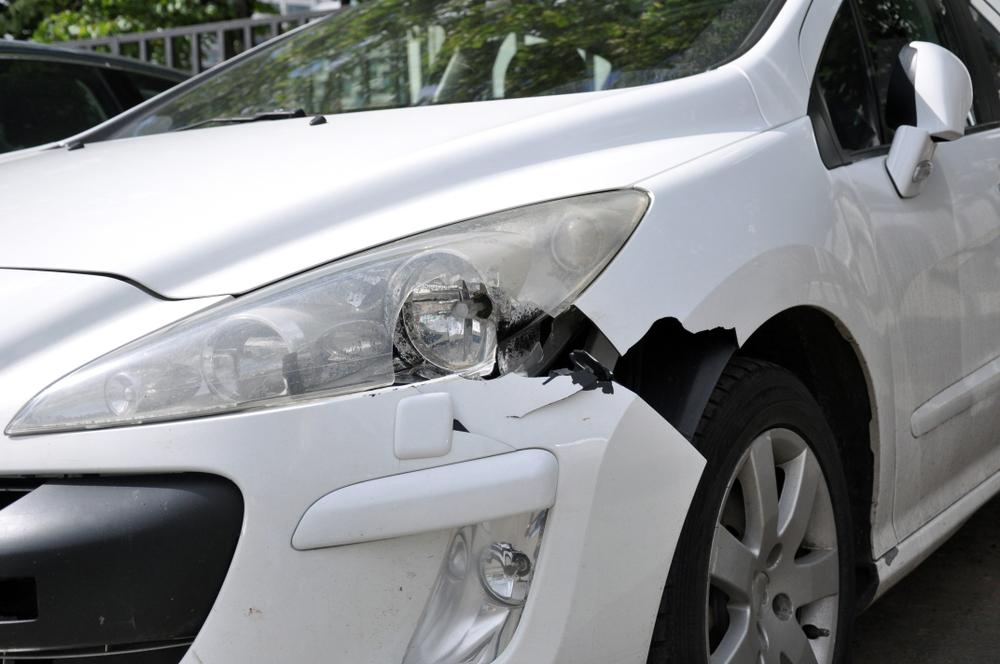crack: (504, 377, 597, 420)
lamp broken: (4, 188, 652, 438)
